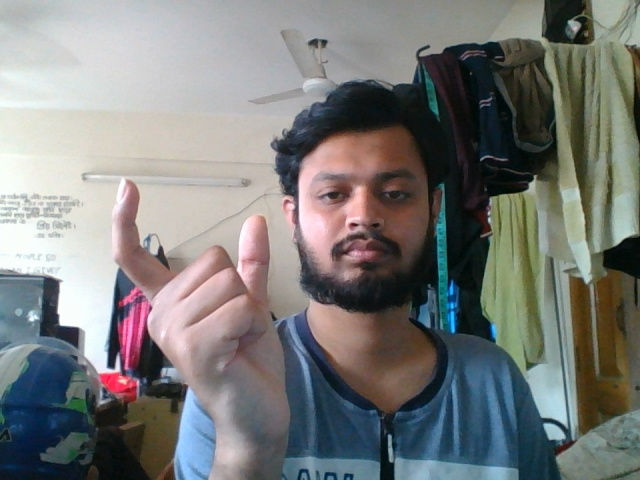chandrobindu: (108, 172, 305, 464)
